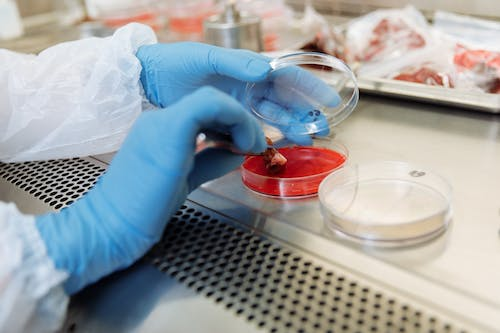blood: (241, 132, 351, 200), (354, 12, 426, 63), (451, 38, 500, 94), (296, 27, 348, 73), (378, 59, 455, 89)
